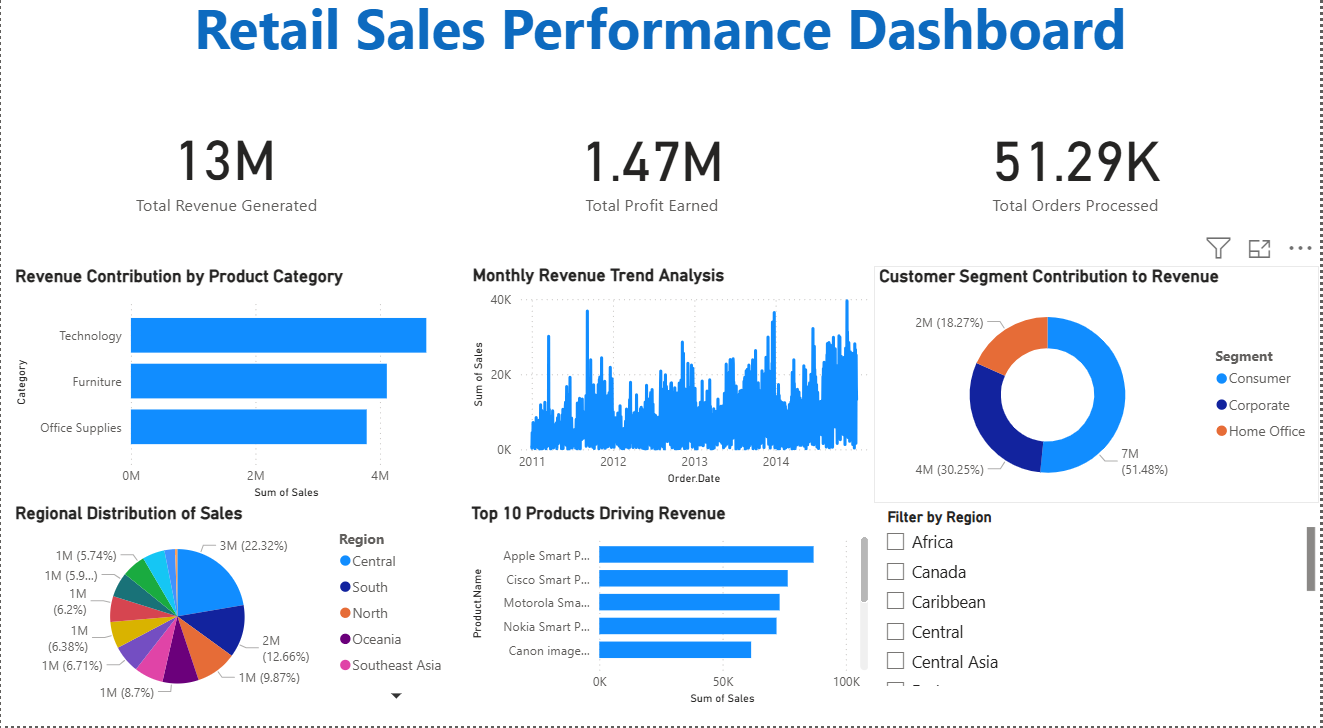

This screenshot's page, from the dashboard's own definition file:
{"tool":"powerbi","page":{"name":"Page 1","canvas":[1280,720],"ordinal":0},"visuals":[{"type":"card","fields":{"Values":["Sum(clean_superstore.Sales)"]},"box":[0,95.4,433.1,157.5],"z":0},{"type":"card","fields":{"Values":["Sum(clean_superstore.Profit)"]},"box":[433.1,96.9,395.2,156],"z":1000},{"type":"card","fields":{"Values":["CountNonNull(clean_superstore.Order.ID)"]},"box":[848,96.9,387.6,156],"z":2000},{"type":"clusteredBarChart","title":"Revenue Contribution by Product Category","fields":{"Category":["clean_superstore.Category"],"Y":["Sum(clean_superstore.Sales)"]},"box":[9.1,274.1,433.1,230.2],"z":3000},{"type":"pieChart","title":"Regional Distribution of Sales","fields":{"Category":["clean_superstore.Region"],"Y":["Sum(clean_superstore.Sales)"]},"box":[9.1,504.2,433.1,199.9],"z":4000},{"type":"lineChart","title":"Monthly Revenue Trend Analysis","fields":{"Category":["clean_superstore.Order.Date"],"Y":["Sum(clean_superstore.Sales)"]},"box":[452.7,272.6,395.2,218],"z":5000},{"type":"clusteredBarChart","title":"Top 10 Products Driving Revenue","fields":{"Category":["clean_superstore.Product.Name"],"Y":["Sum(clean_superstore.Sales)"]},"box":[451.2,504.2,395.2,199.9],"z":6000},{"type":"donutChart","title":"Customer Segment Contribution to Revenue","fields":{"Category":["clean_superstore.Segment"],"Y":["Sum(clean_superstore.Sales)"]},"box":[846.4,274.1,433.1,230.2],"z":7000},{"type":"slicer","fields":{"Values":["clean_superstore.Region"]},"box":[846.4,504.2,433.1,181.7],"z":8000},{"type":"textbox","box":[0,0,1279.5,116.6],"z":9000}]}

Visuals, with their boxes in screenshot pixels (x1, y1, x2, y2), scaled from the page's 1280x720 canvas onto the 1323x728 screenshot:
card - Sum(clean_superstore.Sales): [left=0, top=96, right=448, bottom=256]
card - Sum(clean_superstore.Profit): [left=448, top=98, right=856, bottom=256]
card - CountNonNull(clean_superstore.Order.ID): [left=876, top=98, right=1277, bottom=256]
"Revenue Contribution by Product Category" clusteredBarChart: [left=9, top=277, right=457, bottom=510]
"Regional Distribution of Sales" pieChart: [left=9, top=510, right=457, bottom=712]
"Monthly Revenue Trend Analysis" lineChart: [left=468, top=276, right=876, bottom=496]
"Top 10 Products Driving Revenue" clusteredBarChart: [left=466, top=510, right=875, bottom=712]
"Customer Segment Contribution to Revenue" donutChart: [left=875, top=277, right=1322, bottom=510]
slicer - clean_superstore.Region: [left=875, top=510, right=1322, bottom=694]
textbox: [left=0, top=0, right=1322, bottom=118]
